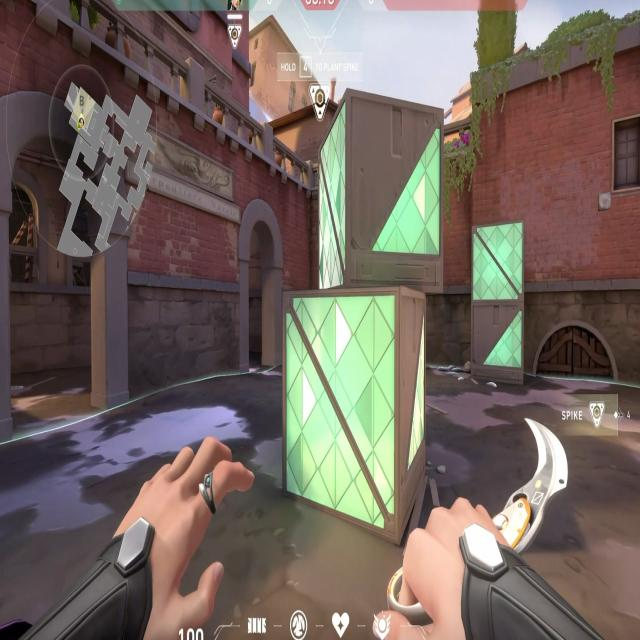B_Boathouse: (0, 82, 133, 440), (230, 181, 281, 383)
B_Site_Box: (275, 85, 454, 570)
